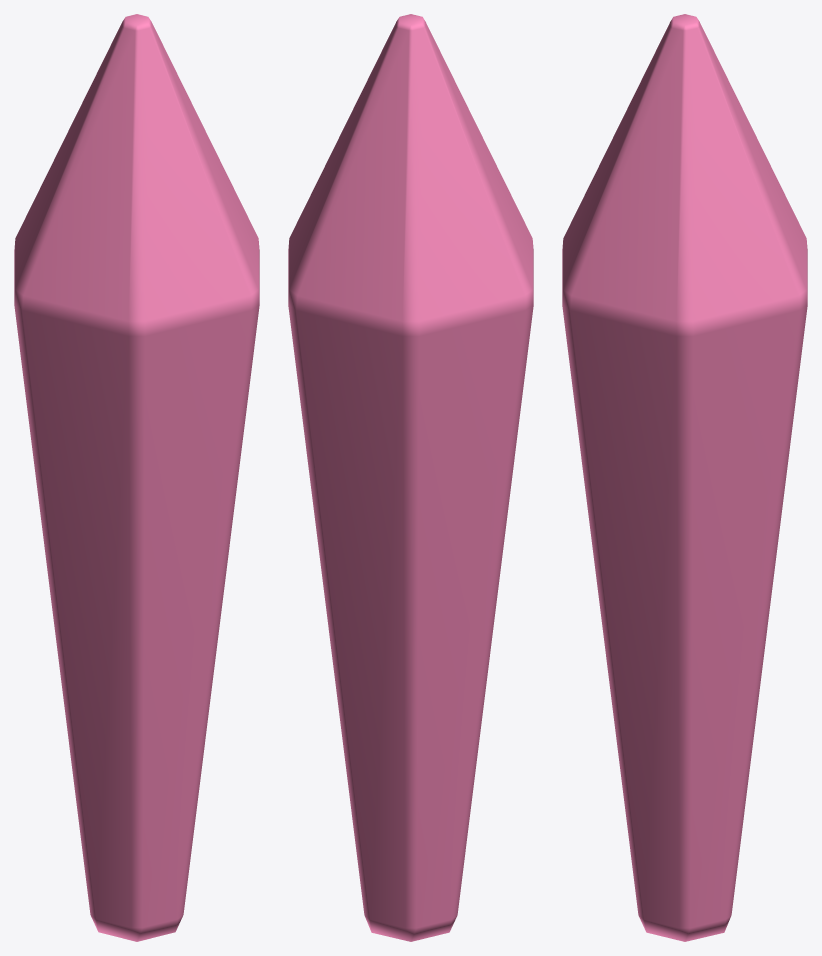
Rendered from Crystal1.fbx.
3 renders of one model, left to right at view 1: azimuth 30°, elevation 25°; view 2: azimuth 150°, elevation 25°; view 3: azimuth 270°, elevation 25°, orthographic.
Parts seen in each view (by area): view 1: Crystal1; view 2: Crystal1; view 3: Crystal1.
Part boxes in pixels (x1,y1,x2,y2): Crystal1: (14, 14, 259, 941); Crystal1: (288, 14, 533, 941); Crystal1: (562, 14, 807, 941).
Bounding box in the file's own units: 38.22 × 139 × 34.25.
